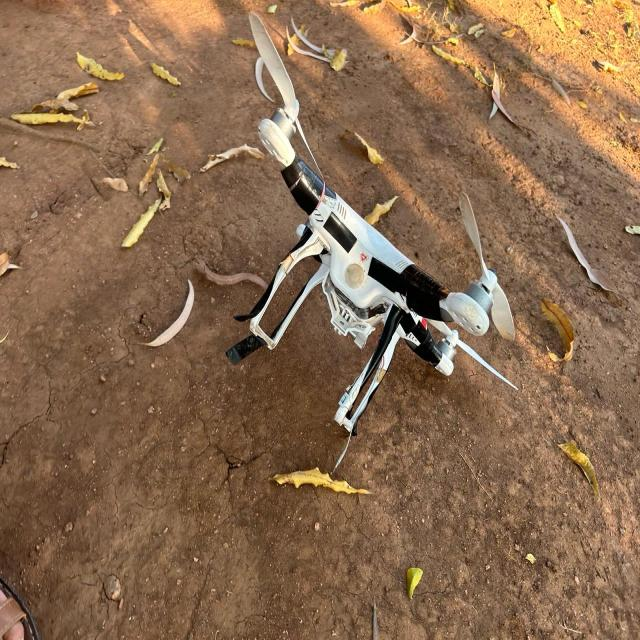drone: (138, 58, 586, 496)
